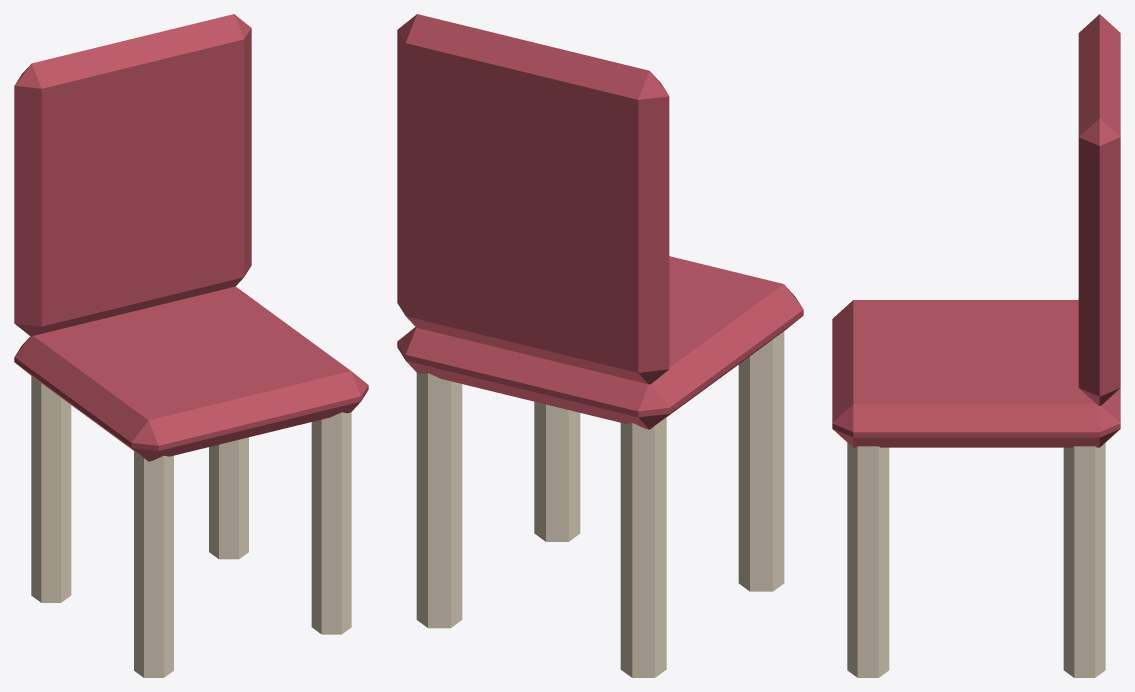
3 renders of one model, left to right at view 1: azimuth 30°, elevation 25°; view 2: azimuth 150°, elevation 25°; view 3: azimuth 270°, elevation 25°, orthographic. The views are drawn at different scales.
Visible parts, largest first — view 1: Backrest, Seat, Leg.002, Leg, Leg.001, Leg.003; view 2: Backrest, Seat, Leg.001, Leg.003, Leg, Leg.002; view 3: Seat, Backrest, Leg.002, Leg.003.
Part boxes in pixels (x1,y1,x2,y2): Backrest: [14, 14, 251, 336]; Seat: [14, 286, 368, 461]; Leg.002: [311, 412, 351, 634]; Leg: [134, 451, 173, 677]; Leg.001: [31, 376, 71, 602]; Leg.003: [209, 437, 248, 559]; Backrest: [397, 14, 669, 384]; Seat: [397, 256, 803, 429]; Leg.001: [620, 417, 666, 677]; Leg.003: [416, 373, 462, 628]; Leg: [738, 331, 784, 591]; Leg.002: [534, 401, 580, 541]; Seat: [832, 300, 1120, 447]; Backrest: [1078, 14, 1120, 405]; Leg.002: [847, 443, 889, 677]; Leg.003: [1063, 443, 1105, 677].
Size of the model in its own units: 48 by 102 by 48.
